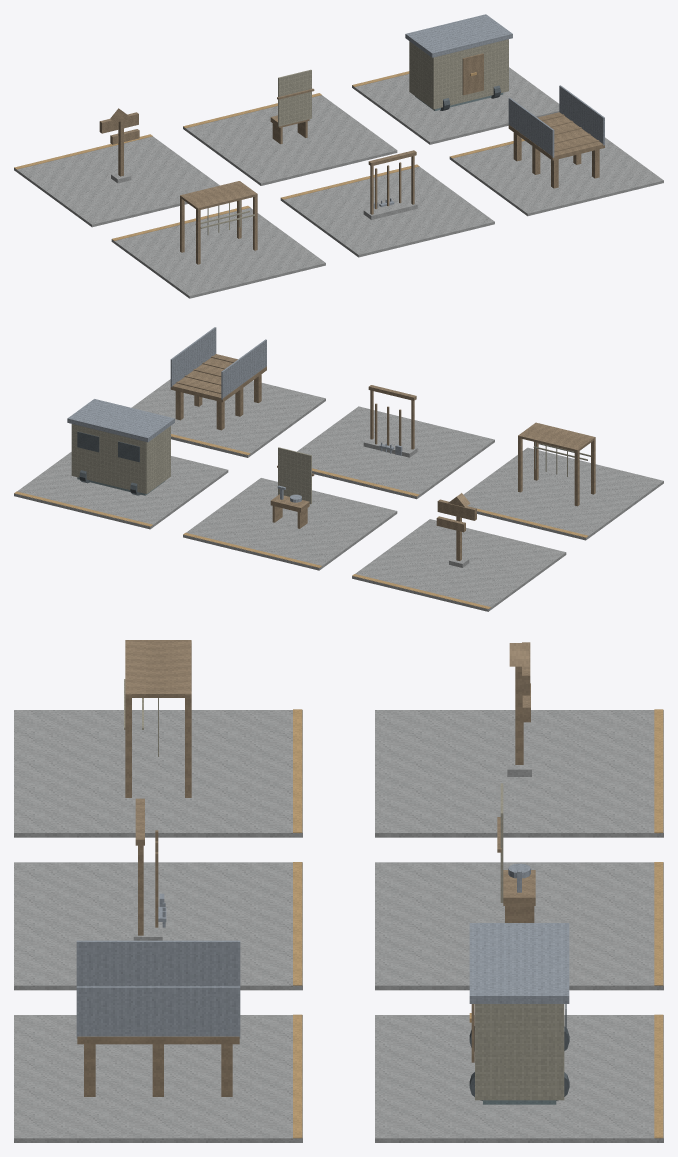
The model's file is level_blockout_kit_wld_11_p02.glb.
3 views of the same model, one above another, from view 1: azimuth 30°, elevation 25°; view 2: azimuth 150°, elevation 25°; view 3: azimuth 270°, elevation 25° (orthographic). The views are drawn at different scales.
Parts seen in each view (by area): view 1: level_blockout_kit_wld_11_p02; view 2: level_blockout_kit_wld_11_p02; view 3: level_blockout_kit_wld_11_p02.
Boxes of the visible parts, left/top/right/bottom form: level_blockout_kit_wld_11_p02: left=14, top=14, right=663, bottom=298; level_blockout_kit_wld_11_p02: left=14, top=327, right=663, bottom=611; level_blockout_kit_wld_11_p02: left=14, top=640, right=663, bottom=1142.
Size of the model in its own units: 19.65 by 2.85 by 12.6.
Materials: 7 (7 with a texture image).
